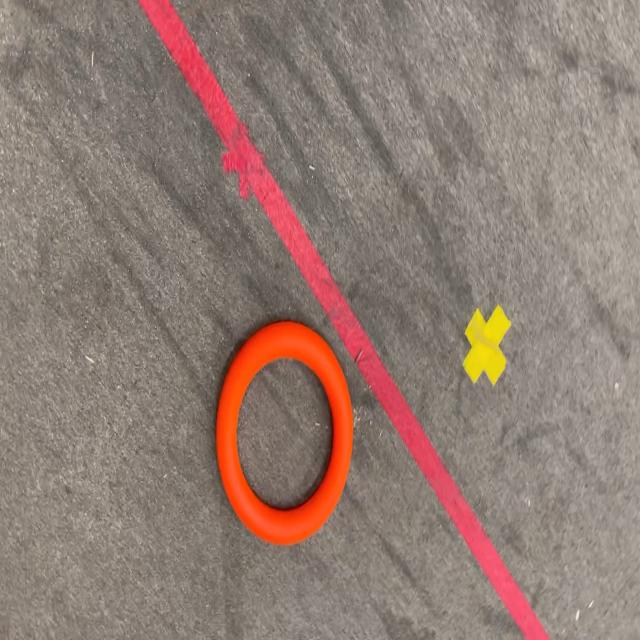note: (216, 322, 353, 546)
